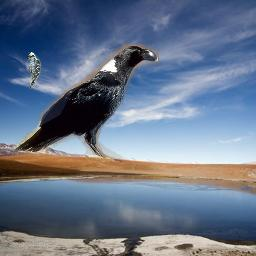Crow: (12, 44, 159, 162)
Woodpecker: (27, 52, 41, 89)
